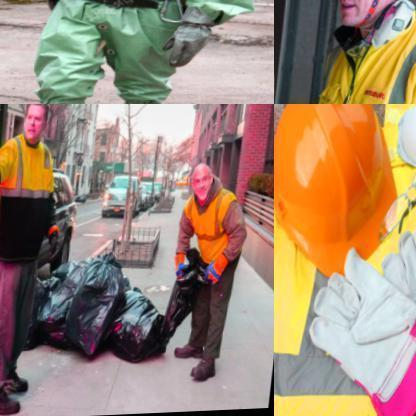Glass: (0, 135, 62, 269), (172, 189, 253, 290)
